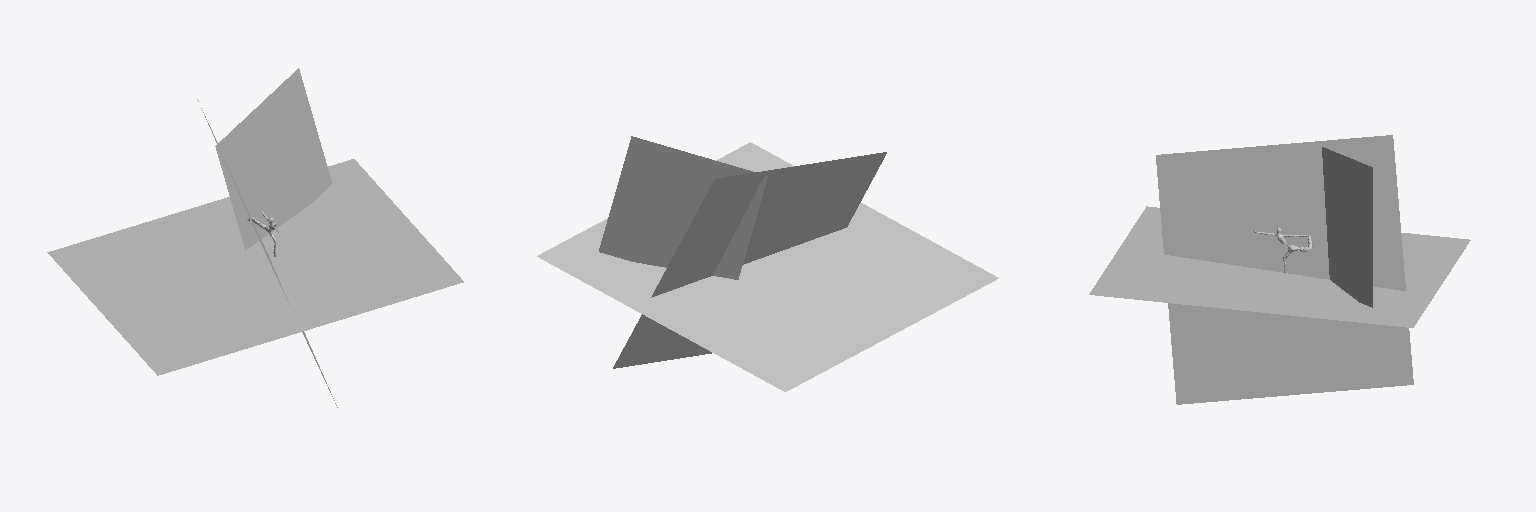
File: grace.obj
The picture shows the model from 3 angles: view 1: azimuth 30°, elevation 25°; view 2: azimuth 150°, elevation 25°; view 3: azimuth 270°, elevation 25°; orthographic projection.
Visible parts, largest first — view 1: Plane.001, Plane.002; view 2: Plane.001, Plane, Plane.002; view 3: Plane, Plane.001, Plane.002.
Part boxes in pixels (x1,y1,x2,y2): Plane.001: (47, 159, 463, 375); Plane.002: (215, 68, 331, 250); Plane.001: (537, 142, 998, 391); Plane: (613, 152, 886, 368); Plane.002: (599, 136, 767, 279); Plane: (1156, 135, 1413, 404); Plane.001: (1089, 206, 1470, 327); Plane.002: (1322, 147, 1372, 307).
Bounding box in the file's own units: 353 × 270 × 355.